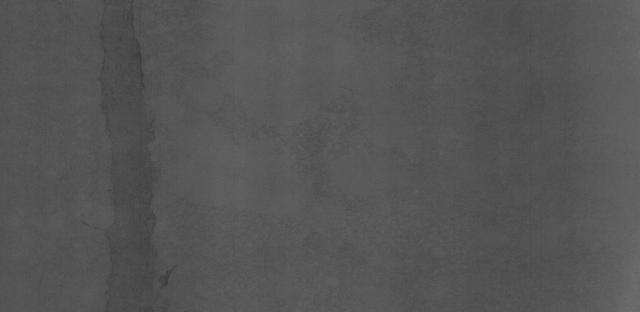water_spot: (88, 6, 183, 312)
